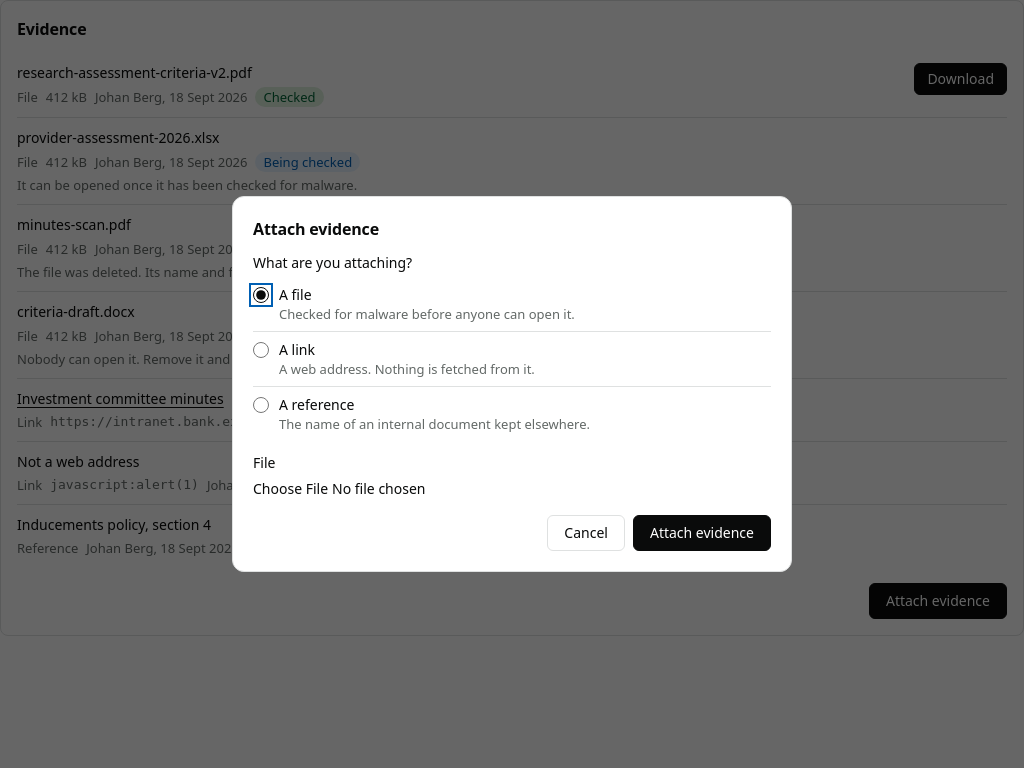
Test case: attaching › sends a file as one multipart post, shows its progress, and says it is being checked
The width and height of the screenshot is (1024, 768).
Earlier steps of the test are not shown.
Later steps or results of the test are not shown.
Click the button "Attach evidence". click: [702, 533]
box: [633,515,771,551]
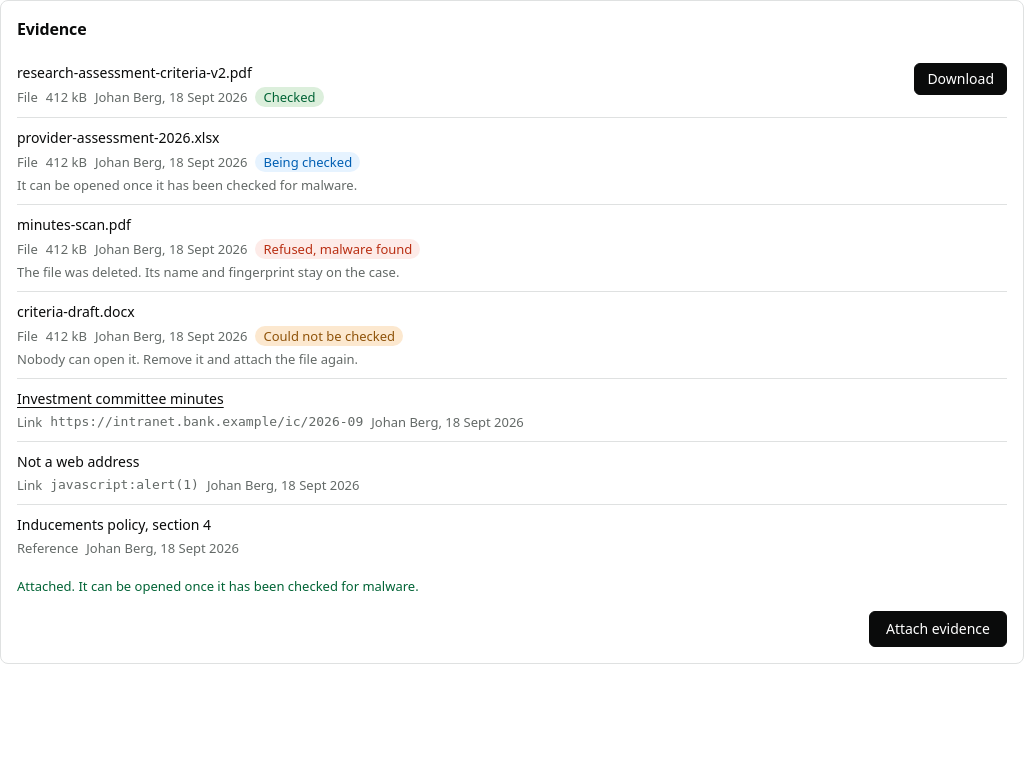
Result: the text "Attached. It can be opened once it has been checked for malware." is shown at [17,577,419,595]
Result: the dialog is gone
